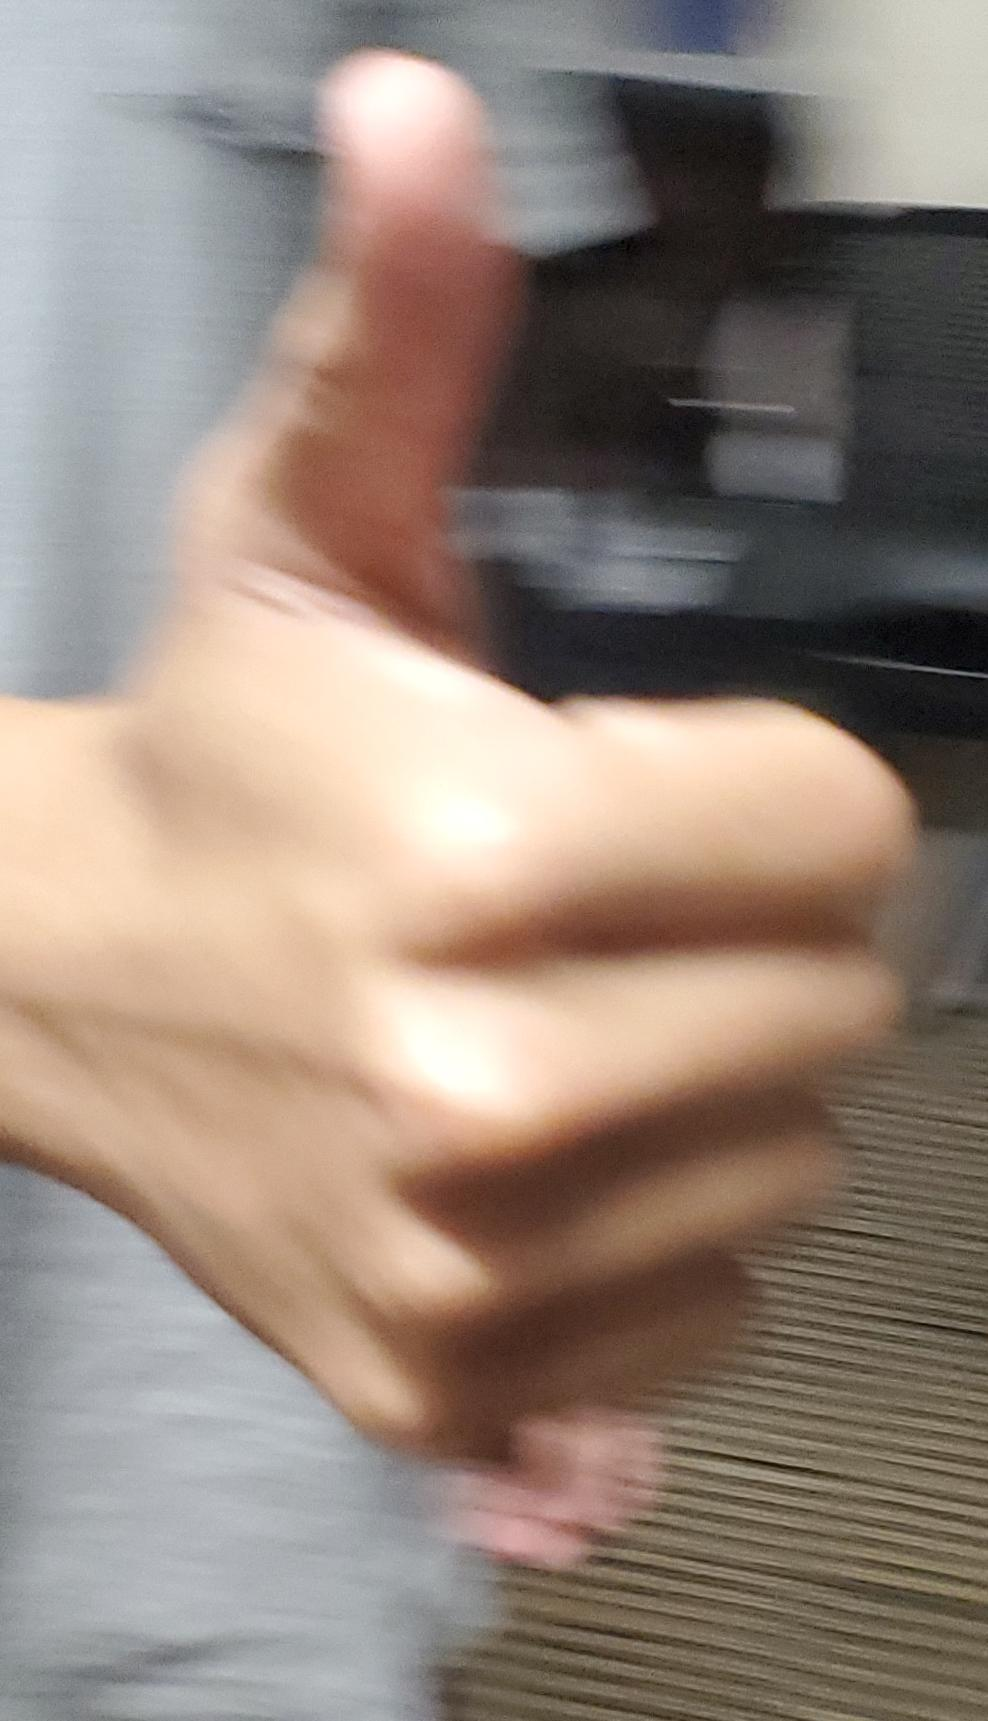up: (0, 1, 988, 1721)
